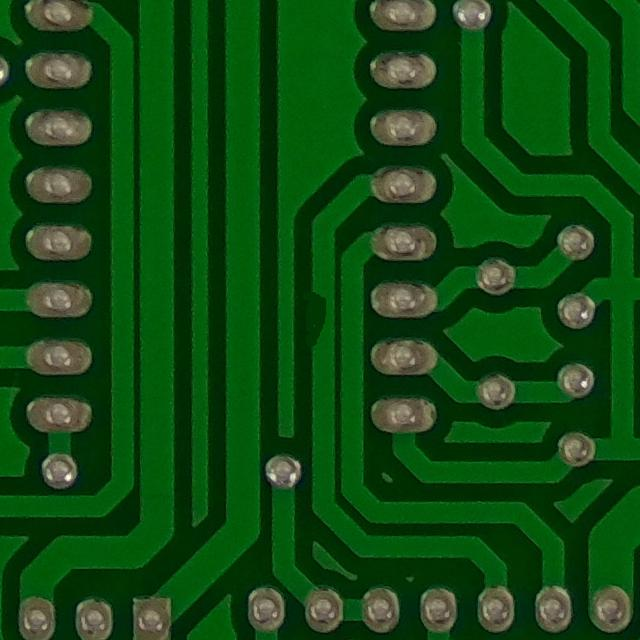mouse_bite: (301, 283, 339, 357)
